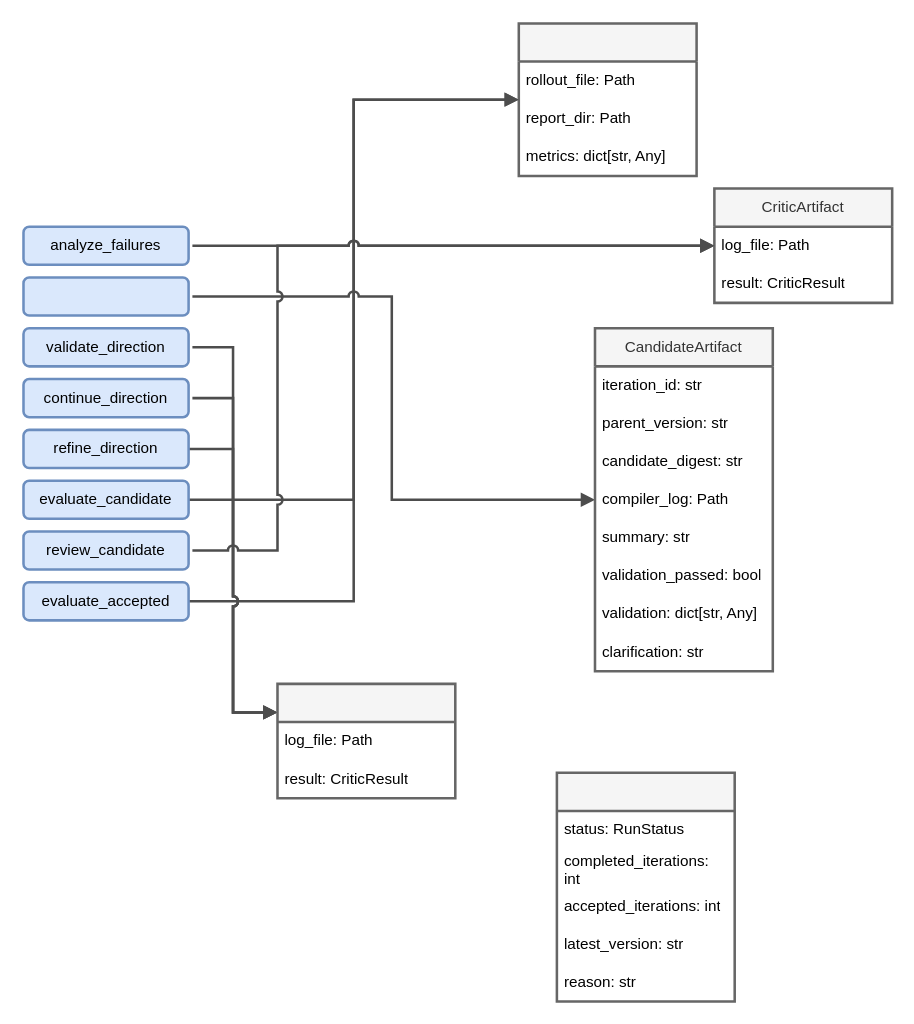
This 914x1024 diagram has some shape labels left out. The shapes that lost their labels are listed below. From the top down, each one's box as (x1, y1, x2, y2) in pixels, then its label:
(517, 22, 697, 177): EvaluationArtifact
(22, 276, 189, 316): compile_candidate
(276, 682, 456, 799): InterventionArtifact
(555, 771, 735, 1002): EvolutionOutcome
